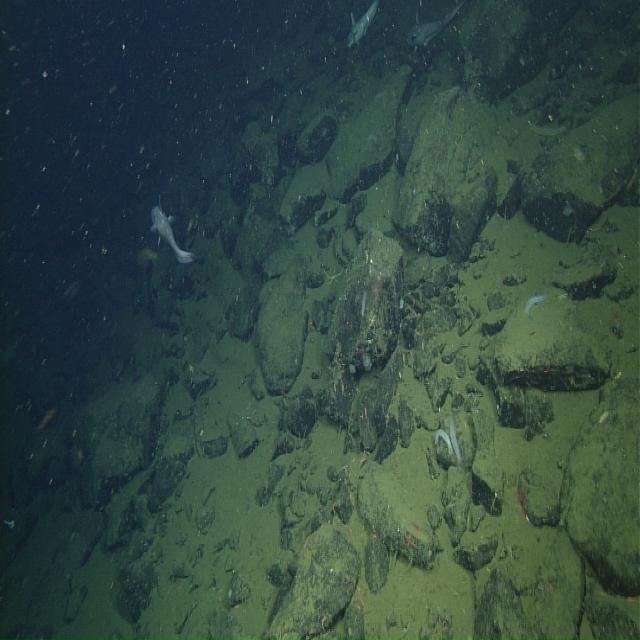Brittle Star: (320, 258, 347, 286), (402, 526, 416, 553)
Not Brittle Star: (146, 193, 206, 271), (403, 2, 464, 54), (344, 2, 381, 53), (447, 415, 465, 468), (367, 270, 388, 314), (522, 289, 550, 320), (428, 127, 452, 162), (434, 426, 454, 458)
